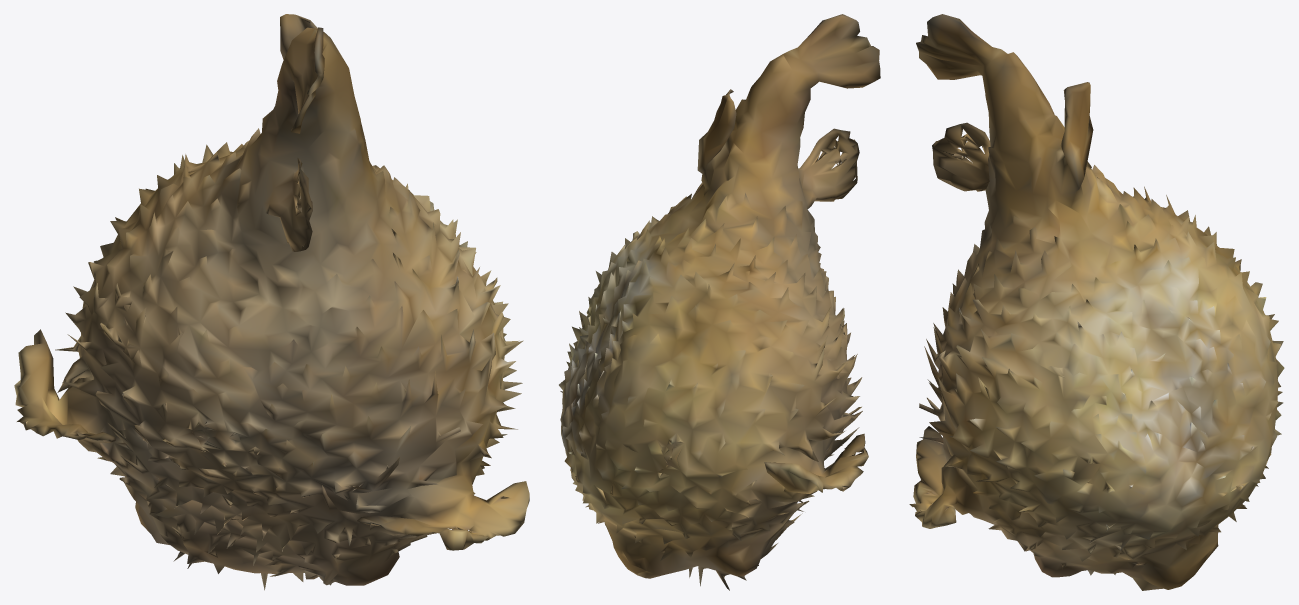
Rendered from puffer-fish.glb.
The picture shows the model from 3 angles, left to right: view 1: azimuth 30°, elevation 25°; view 2: azimuth 150°, elevation 25°; view 3: azimuth 270°, elevation 25°; orthographic projection. The views are drawn at different scales.
Parts seen in each view (by area): view 1: pufferFish; view 2: pufferFish; view 3: pufferFish.
Part boxes in pixels (x1,y1,x2,y2): pufferFish: (14, 14, 529, 590); pufferFish: (559, 14, 880, 590); pufferFish: (909, 14, 1284, 590).
Size of the model in its own units: 0.2274 by 0.3382 by 0.2167.
